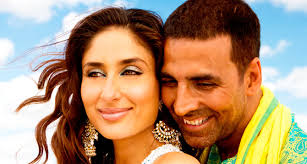Bad: (15, 1, 307, 164)
